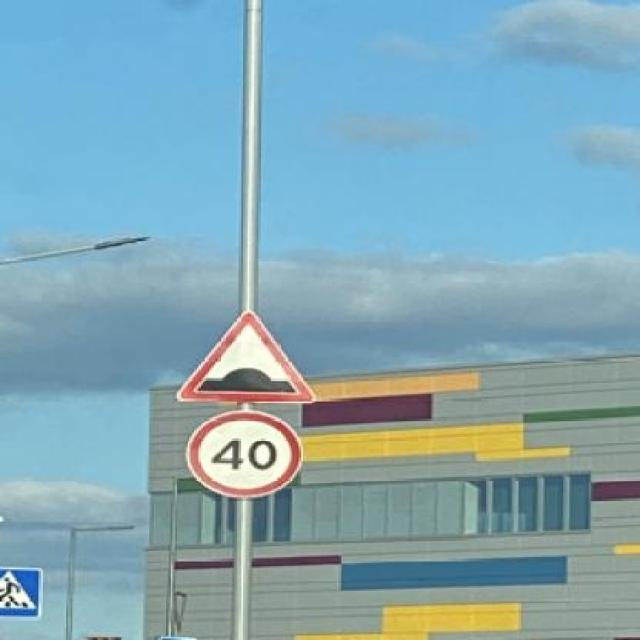forb_speed_over_40: (189, 413, 303, 499)
